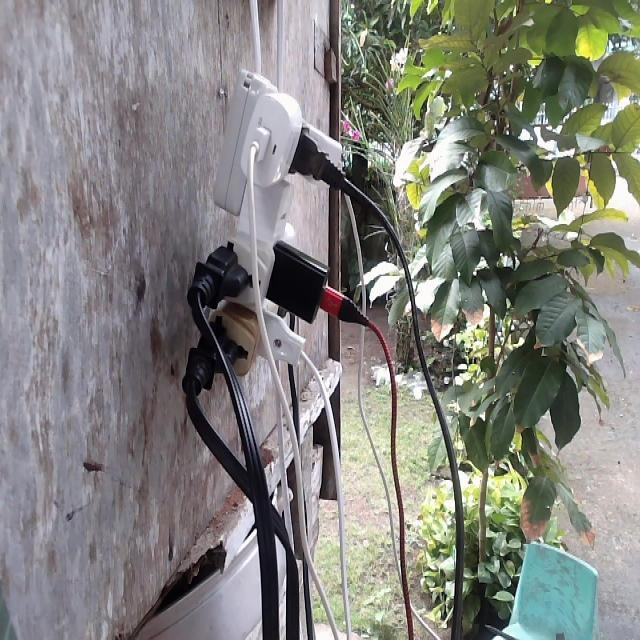-: (182, 65, 370, 408)
